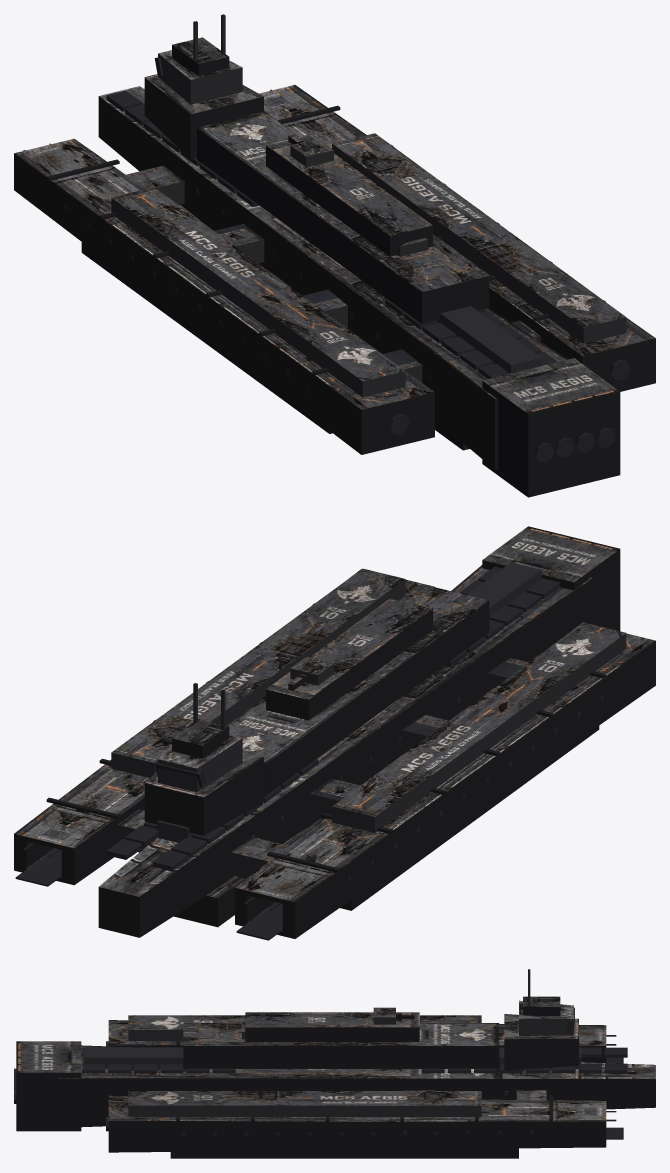
File: aegis_wreck.glb
3 renders of one model, top to bottom at view 1: azimuth 30°, elevation 25°; view 2: azimuth 150°, elevation 25°; view 3: azimuth 270°, elevation 25°, orthographic. The views are drawn at different scales.
Visible parts, largest first — view 1: Bastion_Pod_Port, Bastion_Hull, Bastion_DeckLow, Bastion_PodRidge_Port, Bastion_PodRidge_Stbd, Bastion_Stern, Bastion_Pod_Stbd, Bastion_DeckUp, Bastion_BridgeBase, Bastion_Spine, Bastion_BridgeMid, Bastion_PodKeel_Port (+5 smaller); view 2: Bastion_Pod_Port, Bastion_Hull, Bastion_PodRidge_Port, Bastion_DeckLow, Bastion_PodRidge_Stbd, Bastion_Pod_Stbd, Bastion_DeckUp, Bastion_Stern, Bastion_BridgeBase, Bastion_BridgeMid, Bastion_Spine, Bastion_PodKeel_Port (+9 smaller); view 3: Bastion_Pod_Stbd, Bastion_Hull, Bastion_DeckLow, Bastion_PodRidge_Stbd, Bastion_DeckUp, Bastion_Stern, Bastion_PodKeel_Stbd, Bastion_BridgeBase, Bastion_PodRidge_Port, Bastion_Spine, Bastion_Pod_Port, Bastion_BridgeMid (+3 smaller).
Part boxes in pixels (x1,y1,x2,y2): Bastion_Pod_Port: [14, 138, 434, 454]; Bastion_Hull: [98, 86, 567, 469]; Bastion_DeckLow: [197, 111, 489, 324]; Bastion_PodRidge_Port: [111, 187, 405, 397]; Bastion_PodRidge_Stbd: [332, 133, 626, 343]; Bastion_Stern: [482, 358, 620, 497]; Bastion_Pod_Stbd: [259, 85, 655, 391]; Bastion_DeckUp: [266, 135, 432, 256]; Bastion_BridgeBase: [144, 74, 263, 159]; Bastion_Spine: [437, 306, 541, 373]; Bastion_BridgeMid: [158, 50, 242, 104]; Bastion_PodKeel_Port: [81, 242, 332, 433]; Bastion_Pod_Port: [235, 622, 655, 938]; Bastion_Hull: [98, 565, 593, 937]; Bastion_PodRidge_Port: [332, 622, 626, 832]; Bastion_DeckLow: [228, 584, 489, 796]; Bastion_PodRidge_Stbd: [111, 568, 405, 777]; Bastion_Pod_Stbd: [14, 569, 434, 885]; Bastion_DeckUp: [266, 598, 432, 720]; Bastion_Stern: [482, 526, 620, 630]; Bastion_BridgeBase: [144, 752, 263, 835]; Bastion_BridgeMid: [158, 735, 242, 792]; Bastion_Spine: [157, 562, 541, 842]; Bastion_PodKeel_Port: [340, 726, 599, 910]; Bastion_Pod_Stbd: [108, 1095, 606, 1152]; Bastion_Hull: [58, 1045, 655, 1127]; Bastion_DeckLow: [183, 1023, 499, 1068]; Bastion_PodRidge_Stbd: [128, 1091, 481, 1116]; Bastion_DeckUp: [245, 1012, 419, 1041]; Bastion_Stern: [16, 1041, 81, 1131]; Bastion_PodKeel_Stbd: [170, 1148, 518, 1158]; Bastion_BridgeBase: [504, 1014, 578, 1070]; Bastion_PodRidge_Port: [128, 1015, 481, 1041]; Bastion_Spine: [83, 1047, 581, 1068]; Bastion_Pod_Port: [108, 1020, 606, 1063]; Bastion_BridgeMid: [519, 1000, 573, 1035].
Bounding box in the file's own units: 9.6 × 6.55 × 25.8.
Materials: 13 (2 with a texture image).
